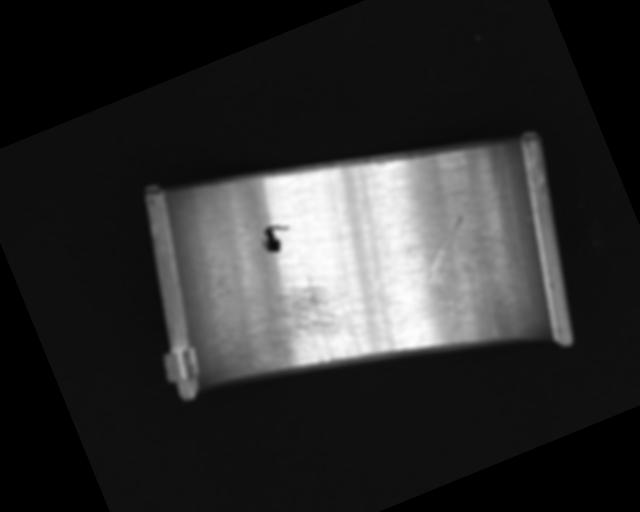blot: (256, 218, 297, 257)
nick: (326, 160, 417, 294), (457, 140, 536, 244), (412, 215, 479, 279), (423, 264, 461, 331)
scratch: (217, 264, 373, 398)
